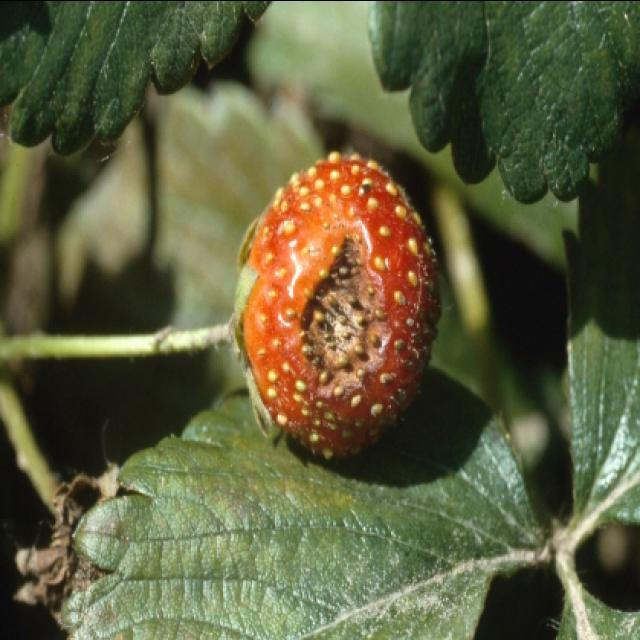Anthracnose Fruit Rot: (296, 212, 393, 416)
